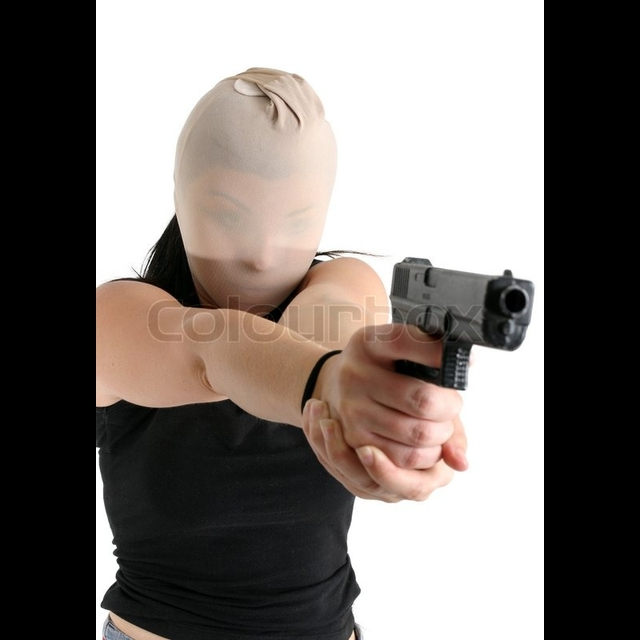SILAH: (385, 254, 538, 420)
